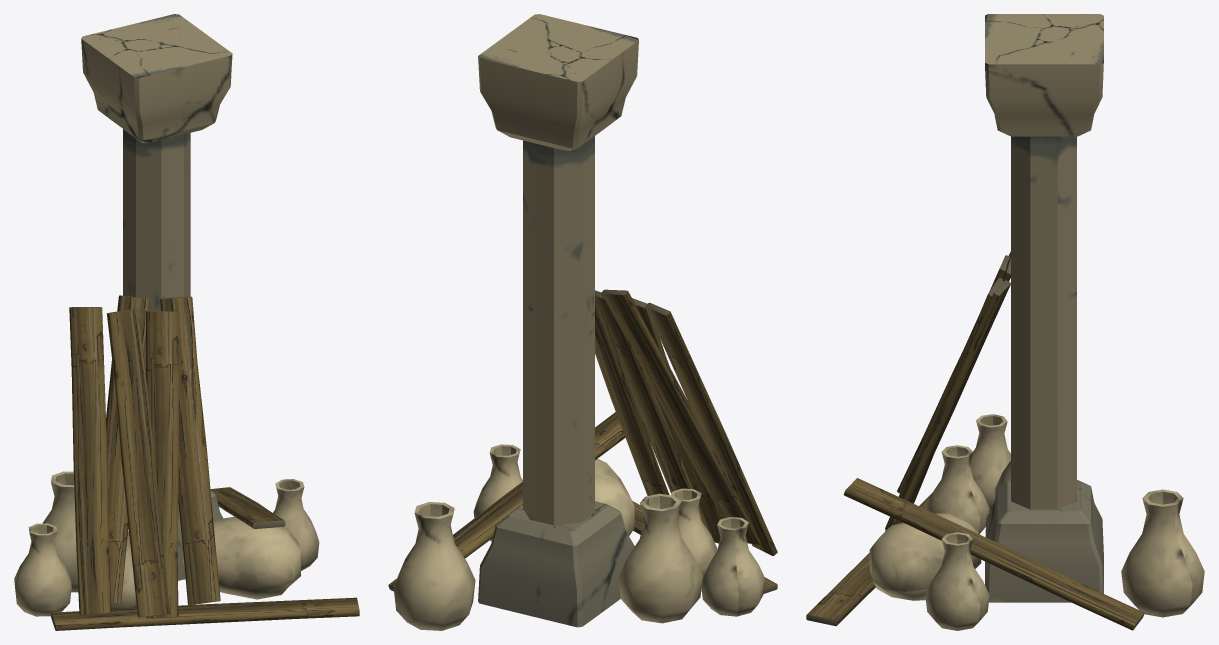
The model's file is clusterColumn 2.fbx.
The picture shows the model from 3 angles, left to right: view 1: azimuth 30°, elevation 25°; view 2: azimuth 150°, elevation 25°; view 3: azimuth 270°, elevation 25°; orthographic projection. The views are drawn at different scales.
Visible parts, largest first — view 1: polySurface393; view 2: polySurface393; view 3: polySurface393.
Part boxes in pixels (x1,y1,x2,y2): polySurface393: [14, 14, 359, 630]; polySurface393: [388, 14, 777, 630]; polySurface393: [806, 14, 1204, 630].
Bounding box in the file's own units: 232 × 401 × 269.
